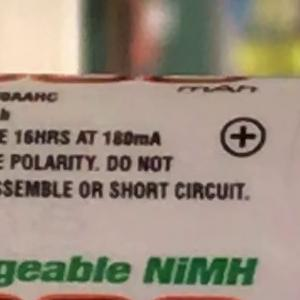keyword: (133, 246, 268, 296)
